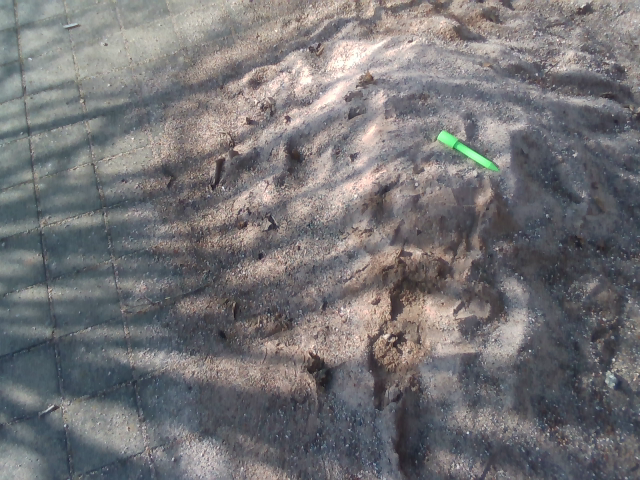Probe: (434, 128, 504, 175)
